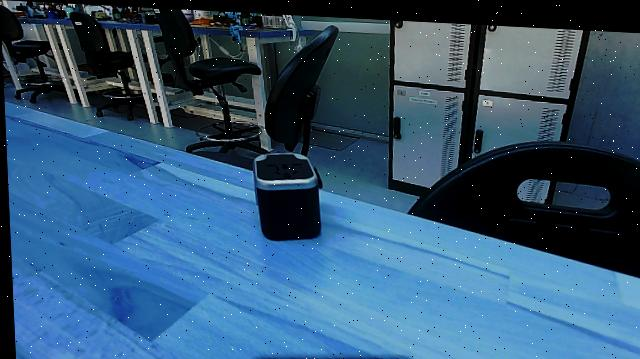adapter: (248, 144, 325, 245)
